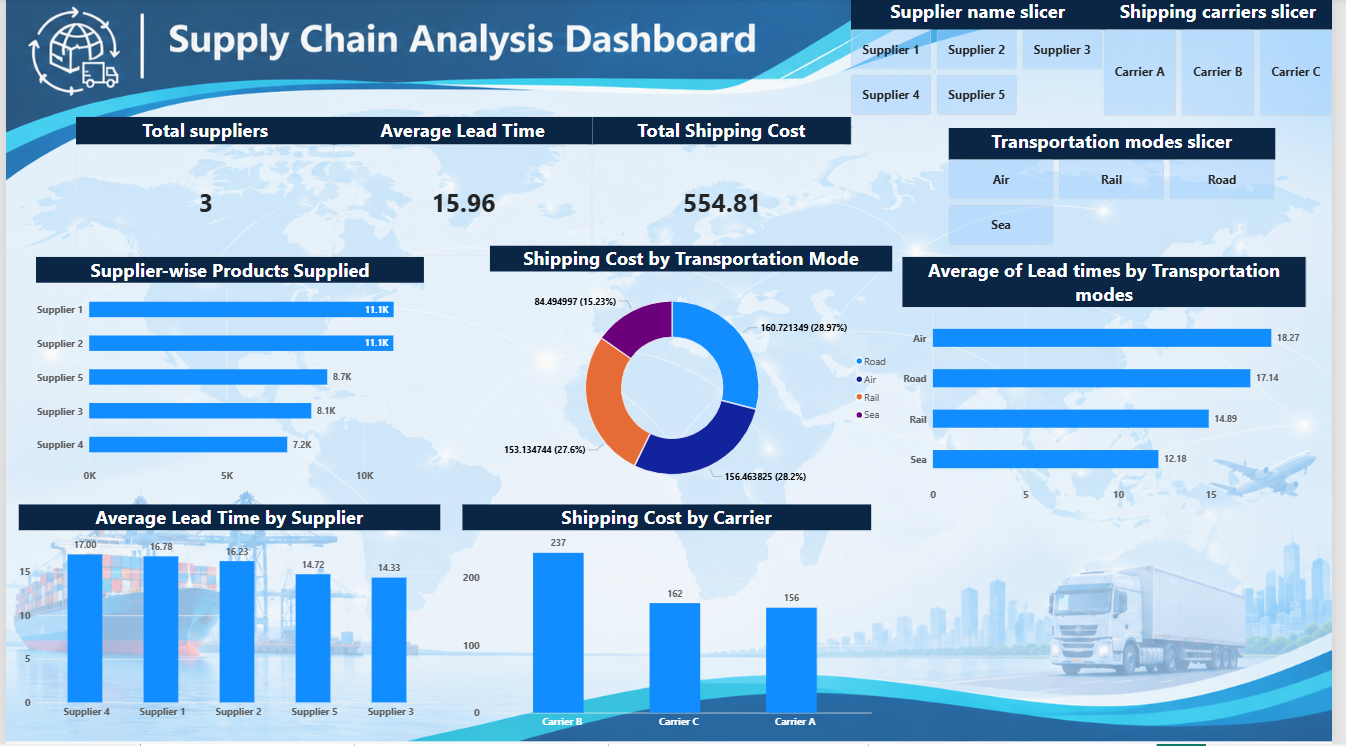

Layout of this report page (visuals, bound fields, positions):
{"tool":"powerbi","page":{"name":"3.\tSupplier & Logistics Analysis","canvas":[1920,1080],"ordinal":2},"visuals":[{"type":"cardVisual","title":"Total suppliers","fields":{"Data":["Count(supply_chain_data.Supplier name)"]},"box":[100.5,171.2,374,202.8],"z":0},{"type":"cardVisual","title":"Average Lead Time","fields":{"Data":["Avg(supply_chain_data.Lead times)"]},"box":[474.5,171.2,374,203],"z":1},{"type":"cardVisual","title":"Total Shipping Cost","fields":{"Data":["Sum(supply_chain_data.Shipping costs)"]},"box":[848.5,171.2,374,203],"z":2},{"type":"clusteredBarChart","title":"Supplier-wise Products Supplied","fields":{"Category":["supply_chain_data.Supplier name"],"Y":["supply_chain_data.Total Products Sold"]},"box":[42.8,374,562,331.2],"z":3},{"type":"clusteredColumnChart","title":"Average Lead Time by Supplier","fields":{"Category":["supply_chain_data.Supplier name"],"Y":["Avg(supply_chain_data.Lead times)"]},"box":[18.6,733.2,610.4,314.5],"z":4},{"type":"clusteredColumnChart","title":"Shipping Cost by Carrier","fields":{"Category":["supply_chain_data.Shipping carriers"],"Y":["Sum(supply_chain_data.Shipping costs)"]},"box":[660.6,733.2,591.7,329.4],"z":5},{"type":"donutChart","title":"Shipping Cost by Transportation Mode","fields":{"Category":["supply_chain_data.Transportation modes"],"Y":["Sum(supply_chain_data.Shipping costs)"]},"box":[699.7,359.1,582.4,374],"z":6},{"type":"clusteredBarChart","fields":{"Category":["supply_chain_data.Transportation modes"],"Y":["Avg(supply_chain_data.Lead times)"]},"box":[1297,374,584.3,359.1],"z":7},{"type":"advancedSlicerVisual","title":"Supplier name slicer","fields":{"Values":["supply_chain_data.Supplier name"]},"box":[1222.6,0,366.6,171.2],"z":8},{"type":"advancedSlicerVisual","title":"Shipping carriers slicer","fields":{"Values":["supply_chain_data.Shipping carriers"]},"box":[1589.1,0,331.2,171.2],"z":9},{"type":"advancedSlicerVisual","title":"Transportation modes slicer","fields":{"Values":["supply_chain_data.Transportation modes"]},"box":[1364,187.9,472.7,171.2],"z":10}]}

Visuals, with their boxes in screenshot pixels (x1, y1, x2, y2), scaled from the page's 1920x1080 canvas onto the 1346x746 screenshot:
"Total suppliers" cardVisual: x1=70 y1=118 x2=333 y2=258
"Average Lead Time" cardVisual: x1=333 y1=118 x2=595 y2=258
"Total Shipping Cost" cardVisual: x1=595 y1=118 x2=857 y2=258
"Supplier-wise Products Supplied" clusteredBarChart: x1=30 y1=258 x2=424 y2=487
"Average Lead Time by Supplier" clusteredColumnChart: x1=13 y1=506 x2=441 y2=724
"Shipping Cost by Carrier" clusteredColumnChart: x1=463 y1=506 x2=878 y2=734
"Shipping Cost by Transportation Mode" donutChart: x1=491 y1=248 x2=899 y2=506
clusteredBarChart - supply_chain_data.Transportation modes x Avg(supply_chain_data.Lead times): x1=909 y1=258 x2=1319 y2=506
"Supplier name slicer" advancedSlicerVisual: x1=857 y1=0 x2=1114 y2=118
"Shipping carriers slicer" advancedSlicerVisual: x1=1114 y1=0 x2=1345 y2=118
"Transportation modes slicer" advancedSlicerVisual: x1=956 y1=130 x2=1288 y2=248
